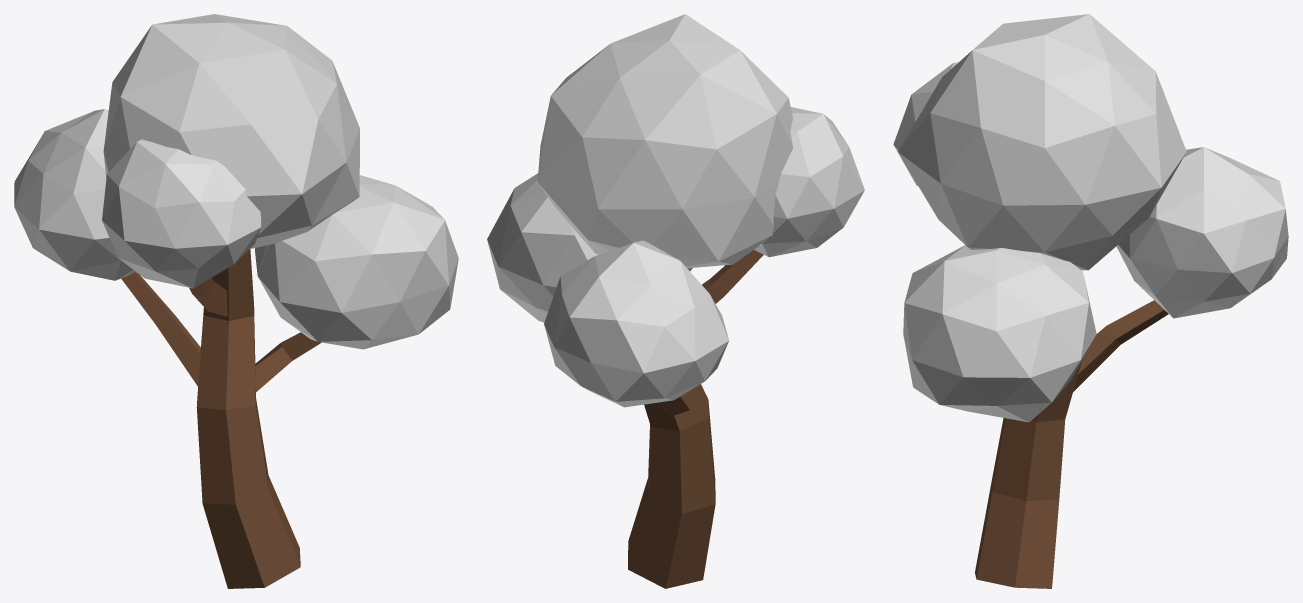
Rendered from tree_small_1.glb.
3 renders of one model, left to right at view 1: azimuth 30°, elevation 25°; view 2: azimuth 150°, elevation 25°; view 3: azimuth 270°, elevation 25°, orthographic.
Parts seen in each view (by area): view 1: tree_small_1; view 2: tree_small_1; view 3: tree_small_1.
Part boxes in pixels (bbox=[...]): tree_small_1: bbox=[14, 14, 458, 588]; tree_small_1: bbox=[487, 14, 864, 588]; tree_small_1: bbox=[893, 14, 1288, 588].
Size of the model in its own units: 2.31 by 3.57 by 2.34.
